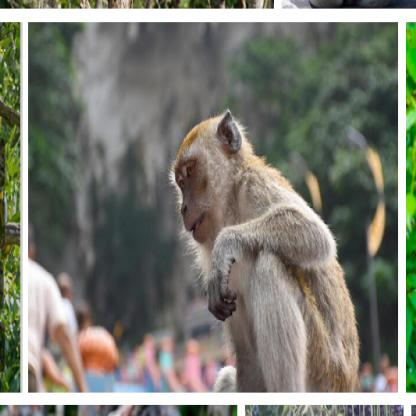monkey: (165, 109, 358, 392)
